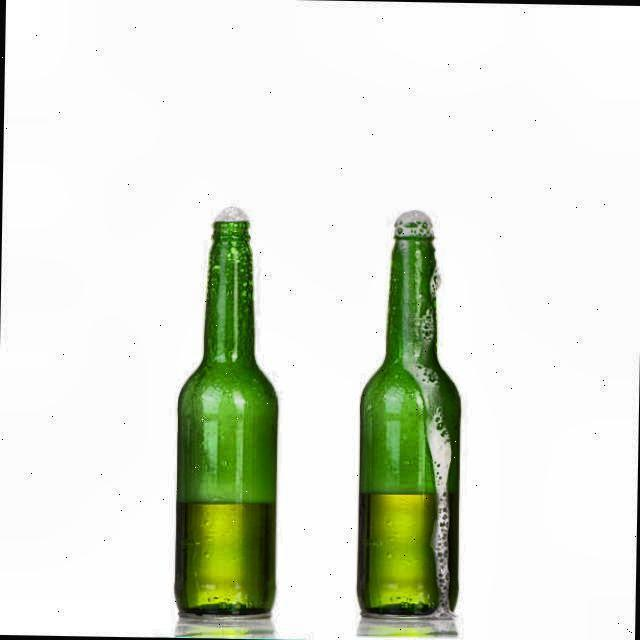glass: (357, 213, 462, 629), (174, 219, 280, 621)
